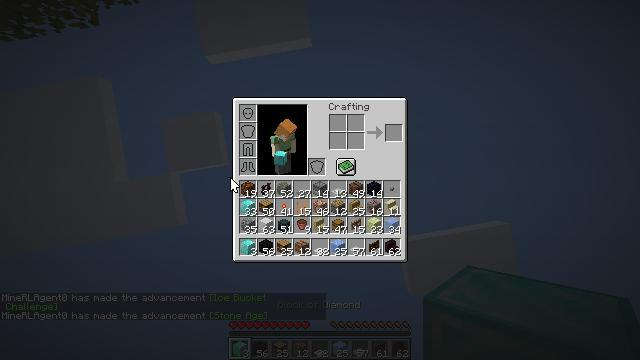cursor: (177, 230, 193, 240)
